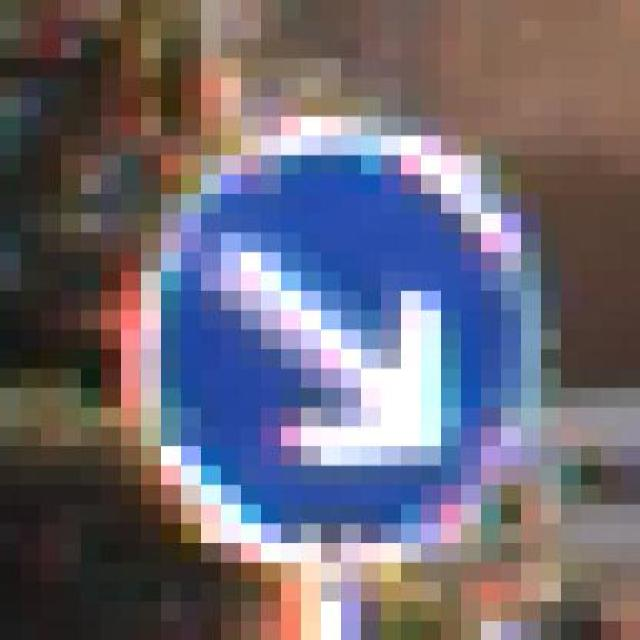Keep-Right: (80, 59, 580, 602)
